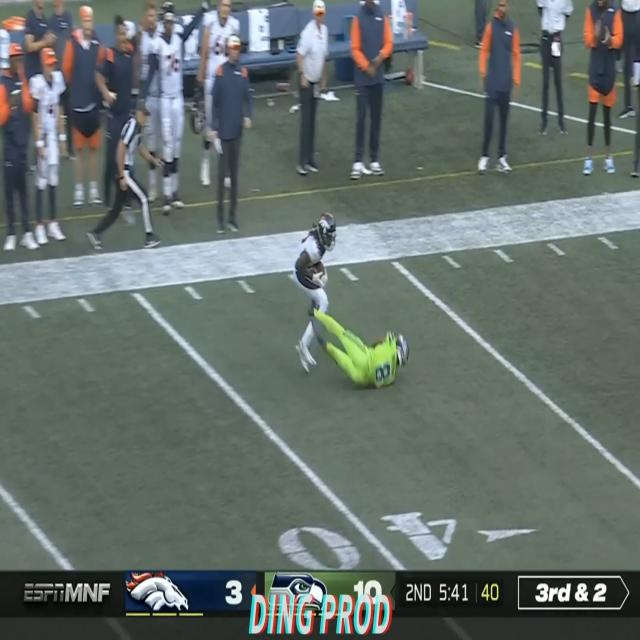football: (311, 260, 325, 280)
players: (288, 209, 352, 375), (314, 328, 415, 393)
